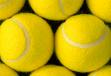tennis ball: (52, 11, 111, 73), (1, 12, 57, 74)
